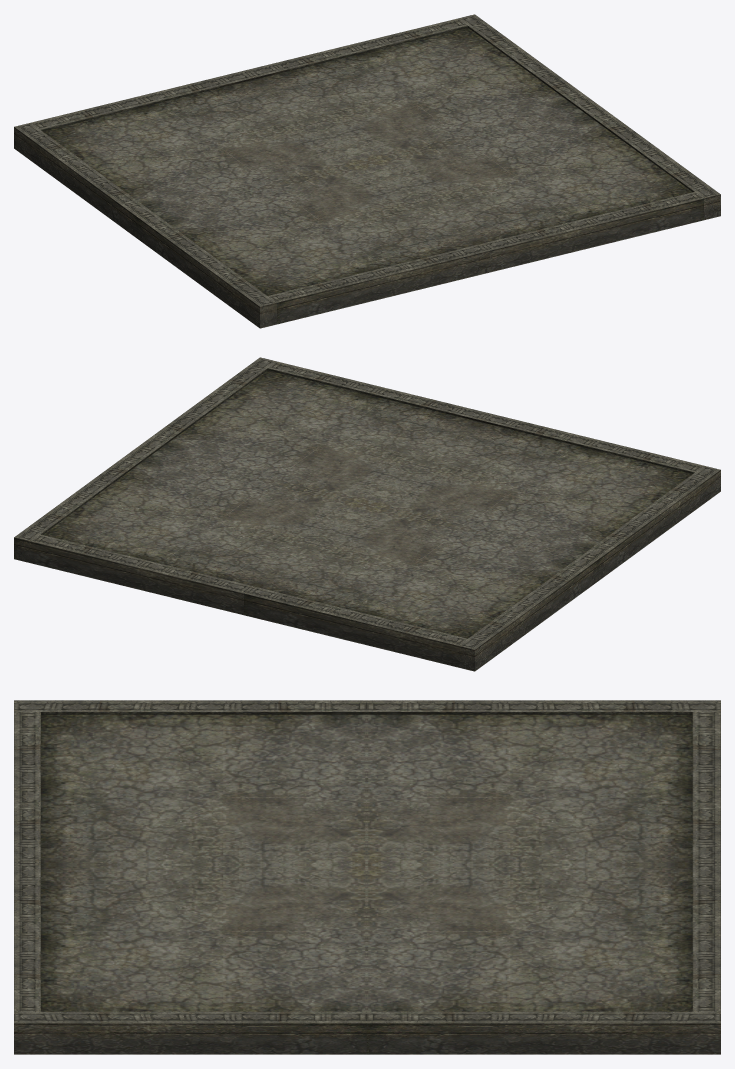
Rendered from dawnmist_floor00.fbx.
3 views of the same model, one above another, from view 1: azimuth 30°, elevation 25°; view 2: azimuth 150°, elevation 25°; view 3: azimuth 270°, elevation 25° (orthographic). The views are drawn at different scales.
Visible parts, largest first — view 1: DawnMist_floor00; view 2: DawnMist_floor00; view 3: DawnMist_floor00.
Boxes of the visible parts, bbox=[...] form: DawnMist_floor00: bbox=[14, 14, 720, 328]; DawnMist_floor00: bbox=[14, 357, 720, 671]; DawnMist_floor00: bbox=[14, 700, 720, 1054].
Size of the model in its own units: 57.08 by 2.57 by 52.79.
